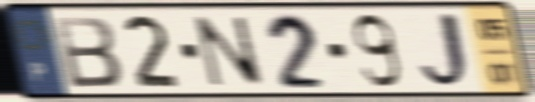2: (264, 8, 336, 94), (123, 13, 181, 90)
9: (349, 11, 404, 91)
B: (50, 14, 125, 90)
J: (416, 9, 477, 92)
N: (190, 14, 269, 89)
